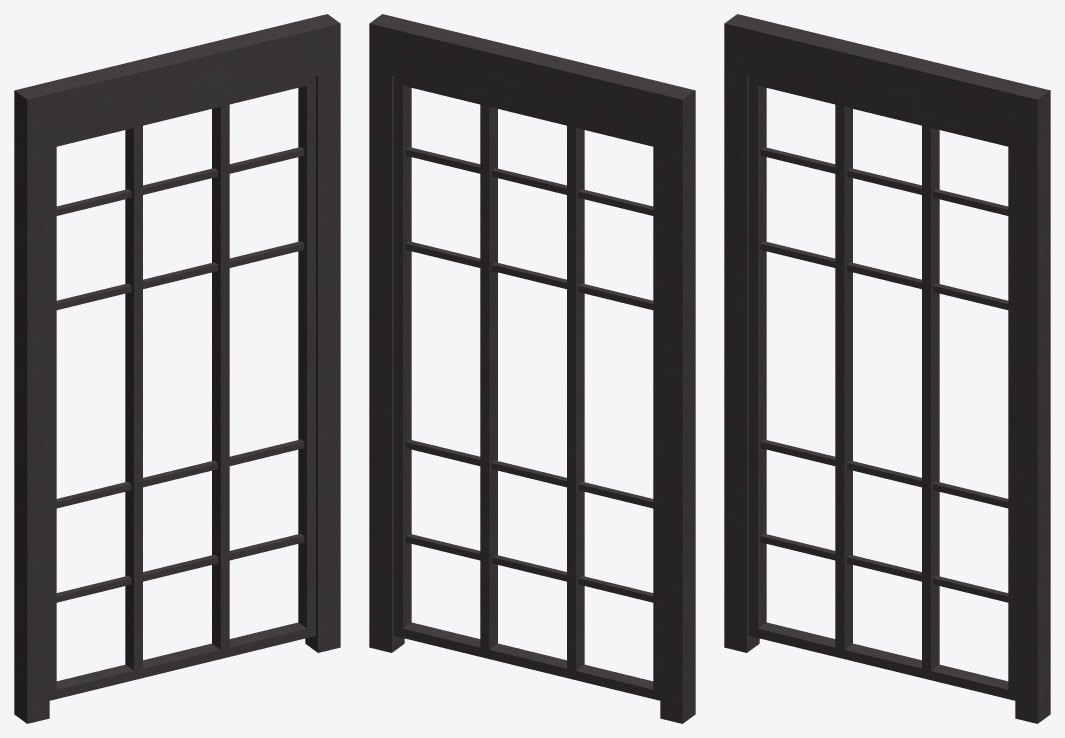
Rendered from es-kyomatiya-kasumi_h2000_kakicha.fbx.
3 renders of one model, left to right at view 1: azimuth 30°, elevation 25°; view 2: azimuth 150°, elevation 25°; view 3: azimuth 330°, elevation 25°, orthographic.
Parts seen in each view (by area): view 1: es-kyomatiya-kasumi_h2000_kakicha; view 2: es-kyomatiya-kasumi_h2000_kakicha; view 3: es-kyomatiya-kasumi_h2000_kakicha.
Part boxes in pixels (x1=…): es-kyomatiya-kasumi_h2000_kakicha: x1=14, y1=14, x2=340, y2=723; es-kyomatiya-kasumi_h2000_kakicha: x1=369, y1=14, x2=695, y2=723; es-kyomatiya-kasumi_h2000_kakicha: x1=724, y1=14, x2=1050, y2=723.
Bounding box in the file's own units: 105 × 200 × 7.5.
2 materials, 2 textured.
